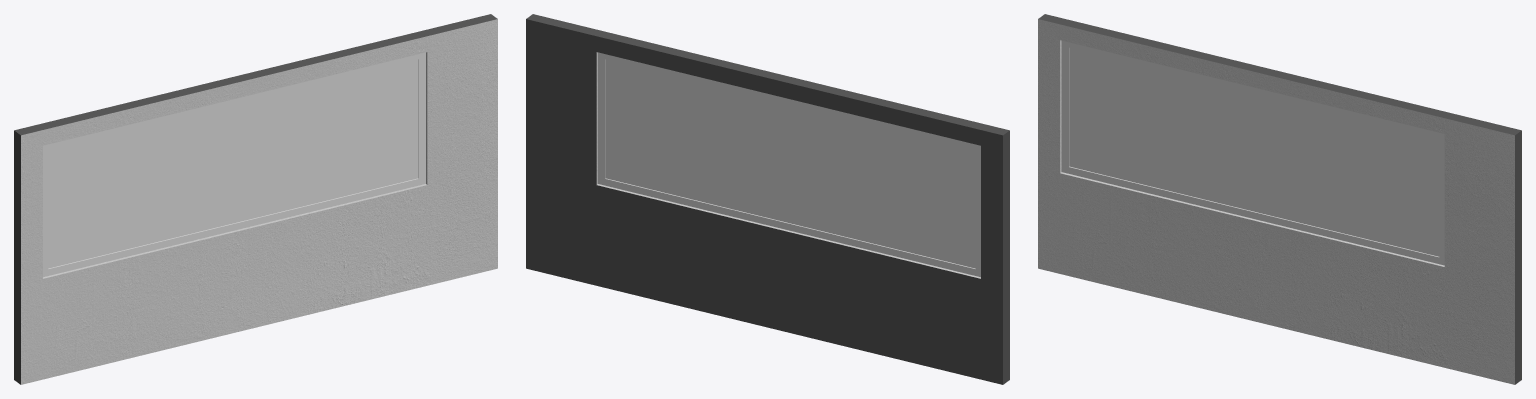
File: Wall_6.fbx
3 views of the same model, side by side, from view 1: azimuth 30°, elevation 25°; view 2: azimuth 150°, elevation 25°; view 3: azimuth 330°, elevation 25° (orthographic).
Parts seen in each view (by area): view 1: Wall_6; view 2: Wall_6; view 3: Wall_6.
Boxes of the visible parts, <box> form: Wall_6: <box>14,14,497,384</box>; Wall_6: <box>526,14,1009,384</box>; Wall_6: <box>1038,14,1521,384</box>.
Bounding box in the file's own units: 400 × 200 × 10.
